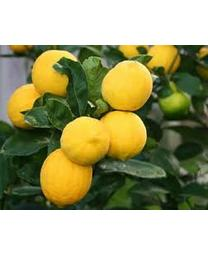lemon: (41, 149, 94, 202), (101, 61, 153, 110), (61, 116, 110, 165), (32, 50, 79, 95), (7, 84, 49, 127)
